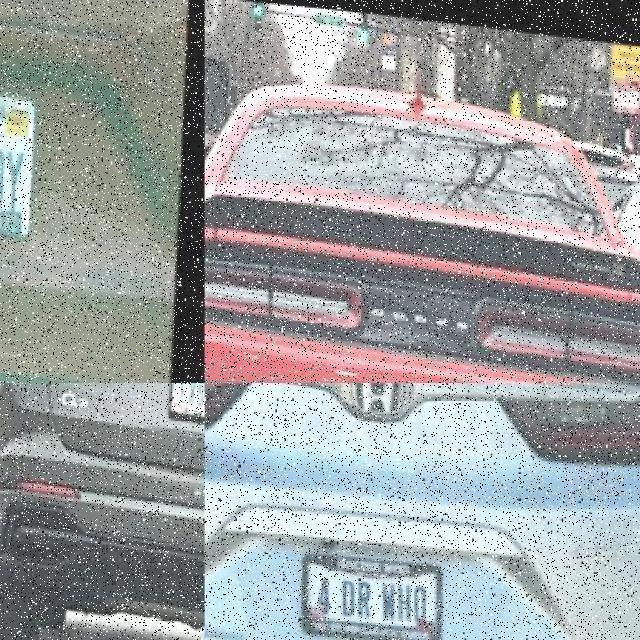license_plate: (302, 547, 443, 637), (0, 76, 76, 235), (168, 382, 204, 416)
